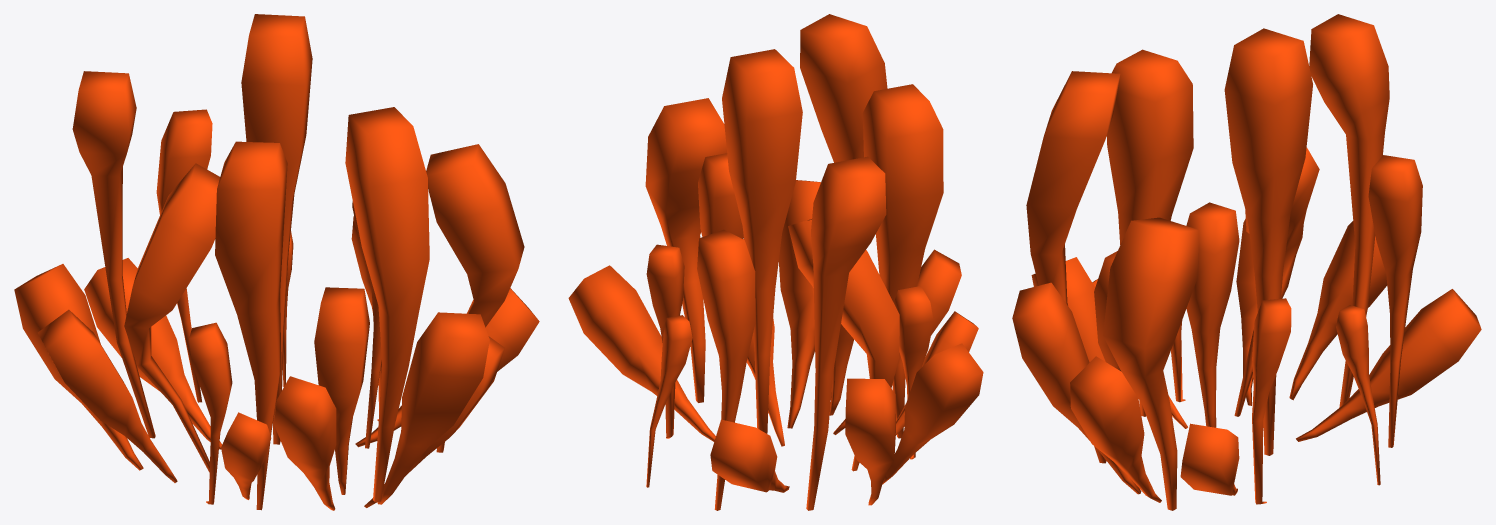
File: redplant.fbx
3 renders of one model, left to right at view 1: azimuth 30°, elevation 25°; view 2: azimuth 150°, elevation 25°; view 3: azimuth 270°, elevation 25°, orthographic. The views are drawn at different scales.
Visible parts, largest first — view 1: node_id30; view 2: node_id30; view 3: node_id30.
Boxes of the visible parts, <box> form: node_id30: <box>14,14,539,510</box>; node_id30: <box>568,14,983,510</box>; node_id30: <box>1012,14,1481,510</box>.
Size of the model in its own units: 0.512 by 0.4807 by 0.4614.
Materials: 1 (1 with a texture image).
